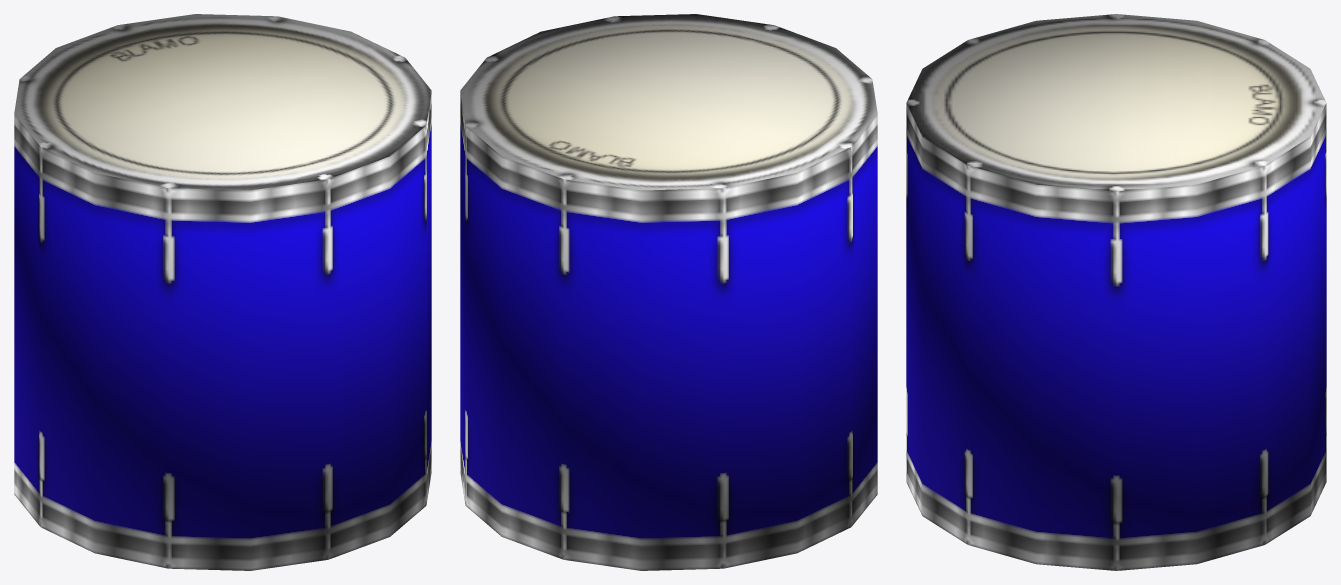
The model's file is DrumSet_Cuica.obj.
The picture shows the model from 3 angles, left to right: view 1: azimuth 30°, elevation 25°; view 2: azimuth 150°, elevation 25°; view 3: azimuth 270°, elevation 25°; orthographic projection.
Visible parts, largest first — view 1: DrumSet_Tom; view 2: DrumSet_Tom; view 3: DrumSet_Tom.
Boxes of the visible parts, <box> form: DrumSet_Tom: <box>14,14,431,570</box>; DrumSet_Tom: <box>460,14,877,570</box>; DrumSet_Tom: <box>906,14,1326,570</box>.
Bounding box in the file's own units: 10.04 × 10 × 10.04.
Materials: 2 (2 with a texture image).
